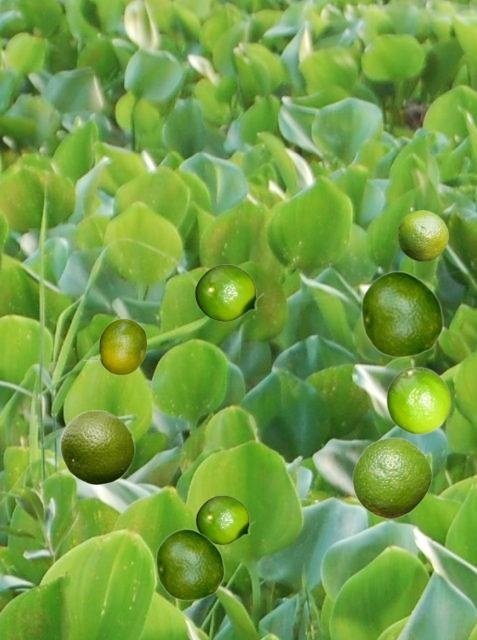calamansi: (360, 270, 443, 357), (352, 437, 431, 518), (60, 409, 134, 484), (155, 528, 224, 600), (386, 366, 450, 433), (194, 264, 263, 321), (82, 318, 146, 374), (195, 495, 255, 544), (397, 210, 447, 260)
